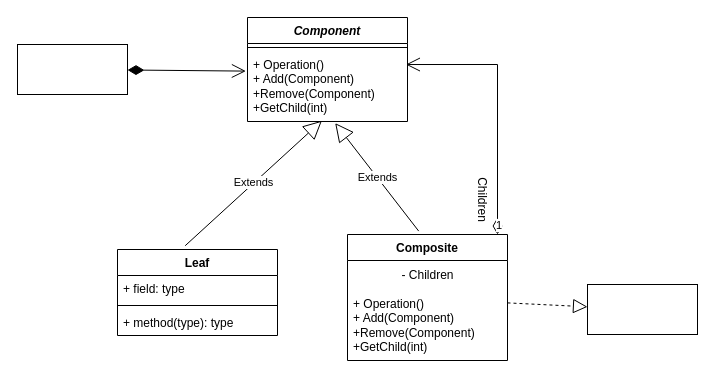
This 715x381 diagram has some shape labels left out. The shapes that lost their labels are listed below. From the top down, each one's box as (x1, y1, x2, y2) in pixels, then its label:
(16, 44, 128, 94): Client
(586, 284, 698, 334): forall g in children g.Operation();
